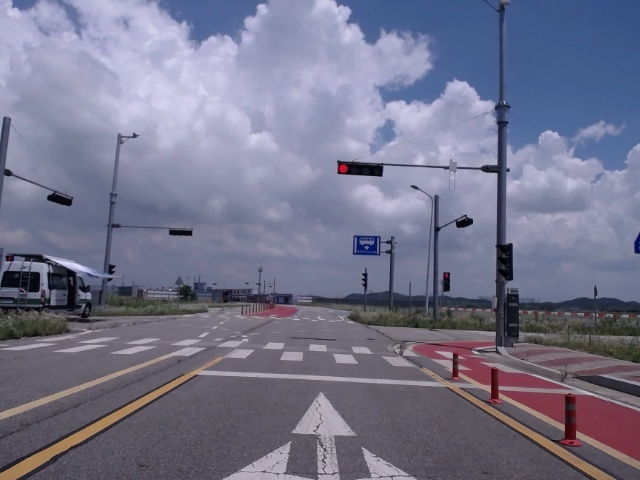red_4: (337, 163, 382, 176)
